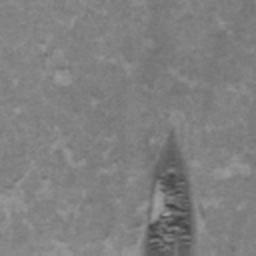Oxide scale of plate system: (140, 125, 198, 256)
